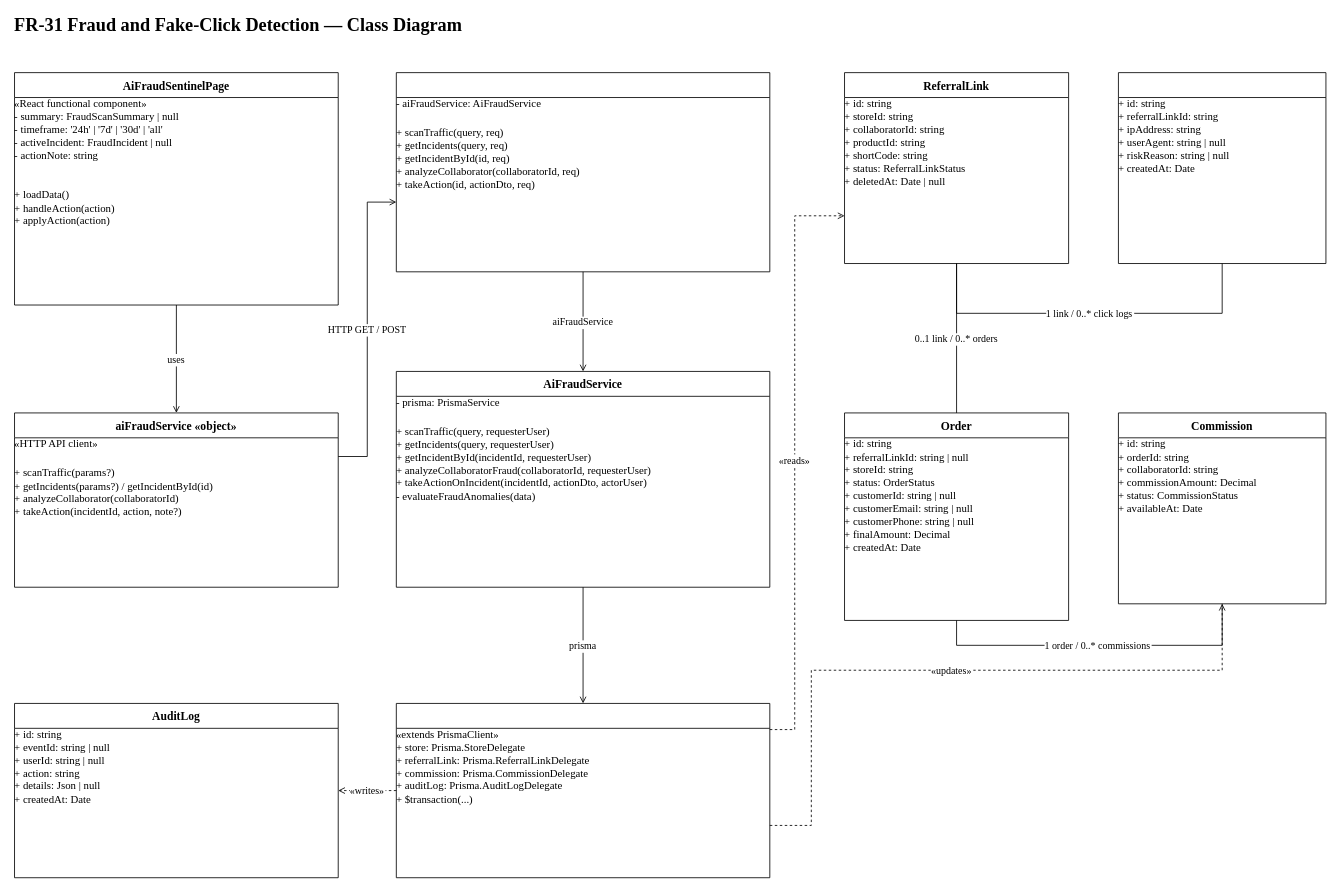
The diagram is 1340 pixels wide and 892 high, and some of its shapes have lost their labels. Here are the shapes that lost their labels. From the top down, the box of each, then its label:
(395, 72, 770, 272): AiFraudController
(1118, 72, 1326, 264): ClickTrafficLog
(395, 703, 770, 878): PrismaService
